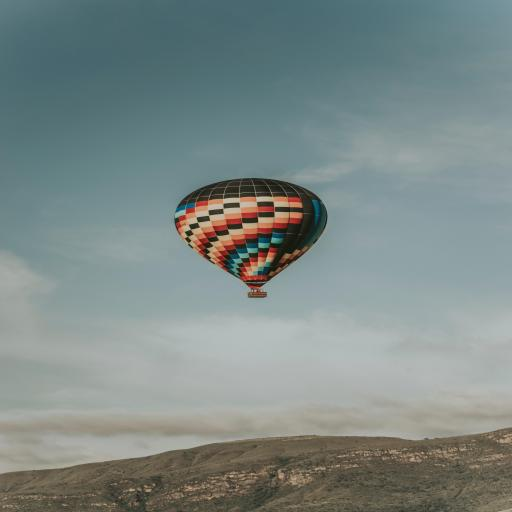hot air ballon: (174, 178, 329, 298)
